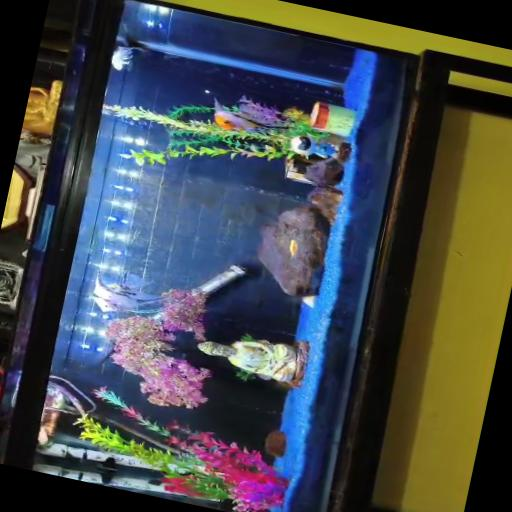Fish: (93, 272, 163, 313), (214, 100, 289, 131), (111, 39, 147, 71), (289, 240, 298, 257)
